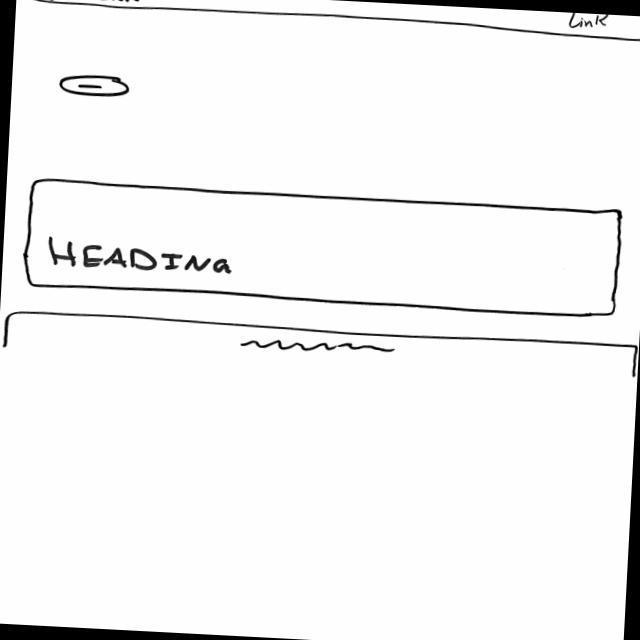container: (23, 178, 627, 322), (17, 1, 640, 43)
icon-button: (59, 75, 133, 101)
label: (46, 236, 238, 277), (566, 14, 612, 33), (44, 1, 144, 5)
text: (239, 338, 398, 358)
